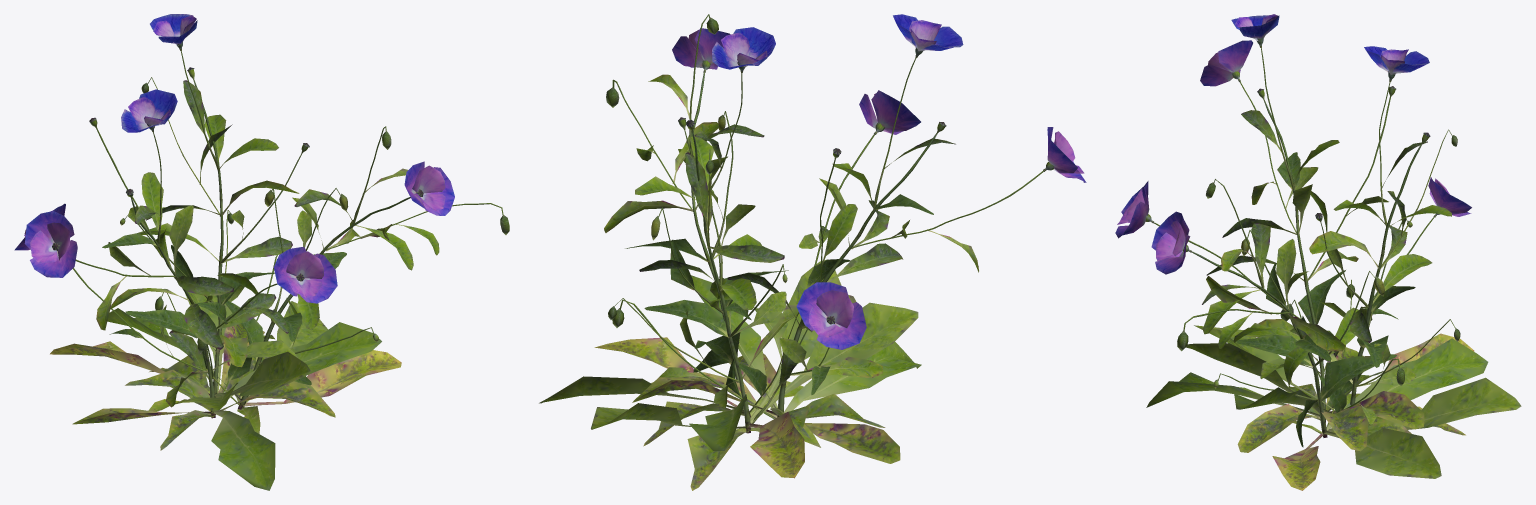
The model's file is Poppy_bush_short_deepblue.glb.
3 views of the same model, side by side, from view 1: azimuth 30°, elevation 25°; view 2: azimuth 150°, elevation 25°; view 3: azimuth 270°, elevation 25° (orthographic). The views are drawn at different scales.
Parts seen in each view (by area): view 1: bush jr; view 2: bush jr; view 3: bush jr.
Part boxes in pixels (x1,y1,x2,y2): bush jr: (14, 14, 509, 490); bush jr: (539, 14, 1086, 490); bush jr: (1115, 14, 1521, 490).
Bounding box in the file's own units: 4.09 × 3.29 × 3.16.
1 material, 1 textured.
